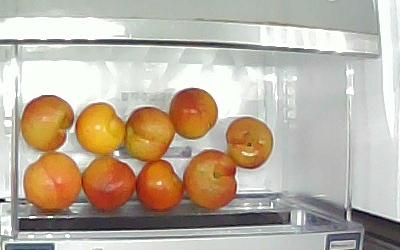prune: (24, 154, 81, 212), (183, 150, 238, 210), (82, 154, 137, 212), (21, 94, 75, 153), (76, 102, 128, 156), (126, 107, 176, 162), (224, 117, 274, 170), (136, 159, 185, 212), (170, 88, 220, 139)
